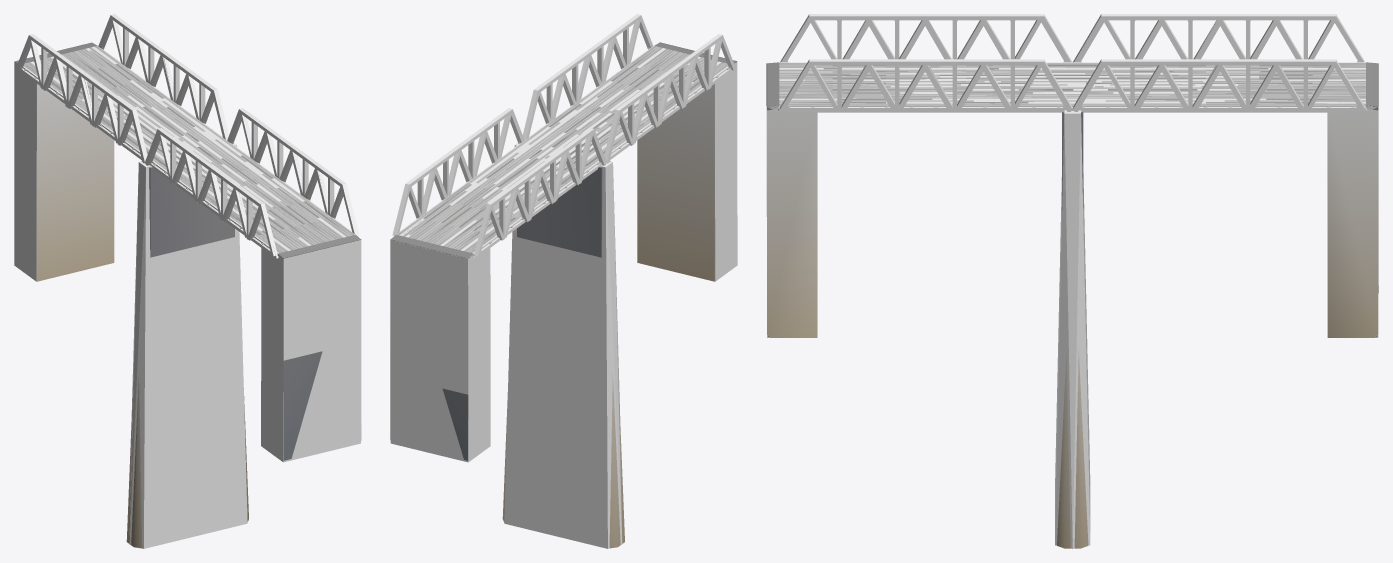
File: eca_bld_bridge_standard_46m.dae
3 renders of one model, left to right at view 1: azimuth 30°, elevation 25°; view 2: azimuth 150°, elevation 25°; view 3: azimuth 270°, elevation 25°, orthographic. The views are drawn at different scales.
Parts seen in each view (by area): view 1: Colmesh-1, eca_bld_bridge_standard_46m_a200, eca_bld_bridge_standard_46m_a1500, eca_bld_bridge_standard_46m_a20; view 2: Colmesh-1, eca_bld_bridge_standard_46m_a200, eca_bld_bridge_standard_46m_a1500, eca_bld_bridge_standard_46m_a20; view 3: Colmesh-1, eca_bld_bridge_standard_46m_a200, eca_bld_bridge_standard_46m_a1500.
Boxes of the visible parts, left/top/right/bottom form: Colmesh-1: left=14, top=14, right=361, bottom=548; eca_bld_bridge_standard_46m_a200: left=15, top=42, right=361, bottom=548; eca_bld_bridge_standard_46m_a1500: left=21, top=44, right=357, bottom=257; eca_bld_bridge_standard_46m_a20: left=14, top=42, right=361, bottom=460; Colmesh-1: left=390, top=14, right=737, bottom=548; eca_bld_bridge_standard_46m_a200: left=390, top=29, right=736, bottom=548; eca_bld_bridge_standard_46m_a1500: left=394, top=44, right=730, bottom=257; eca_bld_bridge_standard_46m_a20: left=391, top=42, right=736, bottom=460; Colmesh-1: left=766, top=14, right=1378, bottom=548; eca_bld_bridge_standard_46m_a200: left=767, top=17, right=1378, bottom=548; eca_bld_bridge_standard_46m_a1500: left=773, top=17, right=1372, bottom=111.
Size of the model in its own units: 12 by 48.05 by 41.44.
